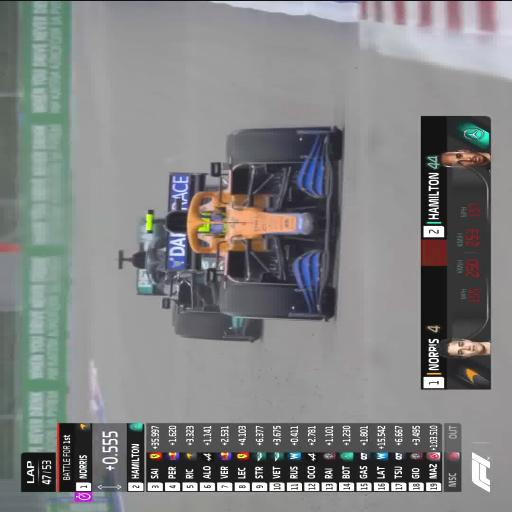f1_car: (164, 126, 340, 320), (118, 218, 260, 342), (147, 214, 152, 230)
